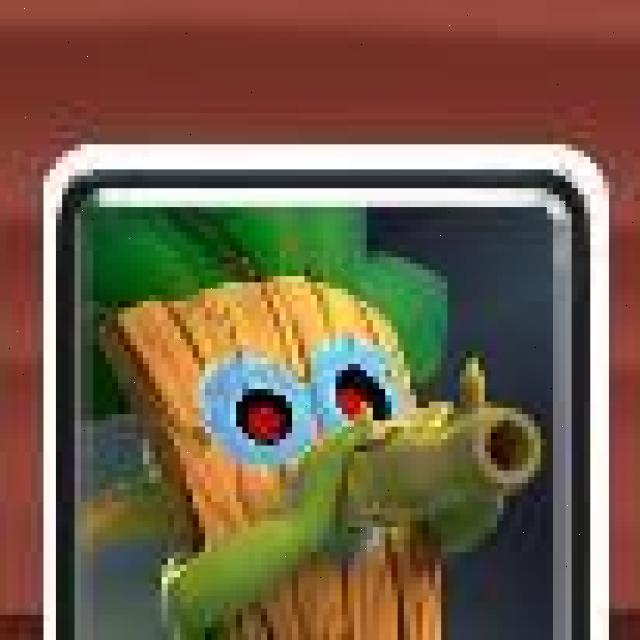Dart_Goblin: (43, 141, 614, 640)
